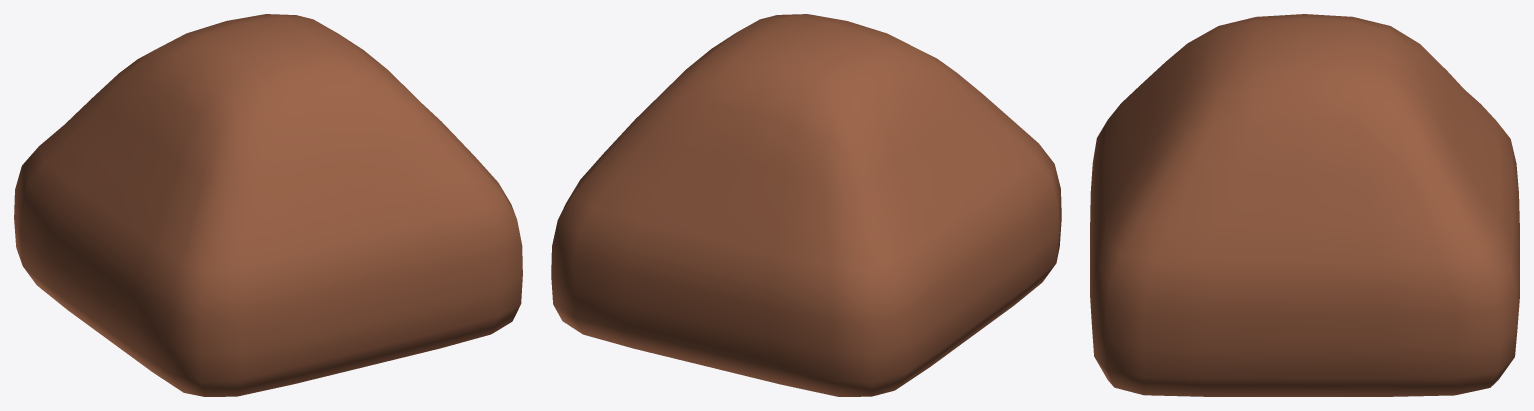
The model's file is Chocmilk_01.fbx.
The picture shows the model from 3 angles, left to right: view 1: azimuth 30°, elevation 25°; view 2: azimuth 150°, elevation 25°; view 3: azimuth 270°, elevation 25°; orthographic projection. The views are drawn at different scales.
Parts seen in each view (by area): view 1: Chocmilk_01_LOD0; view 2: Chocmilk_01_LOD0; view 3: Chocmilk_01_LOD0.
Part boxes in pixels (x1,y1,x2,y2): Chocmilk_01_LOD0: (14, 14, 522, 396); Chocmilk_01_LOD0: (551, 14, 1061, 396); Chocmilk_01_LOD0: (1090, 14, 1519, 396).
Size of what is drawn, in the model's own units: 285 by 212 by 285.
